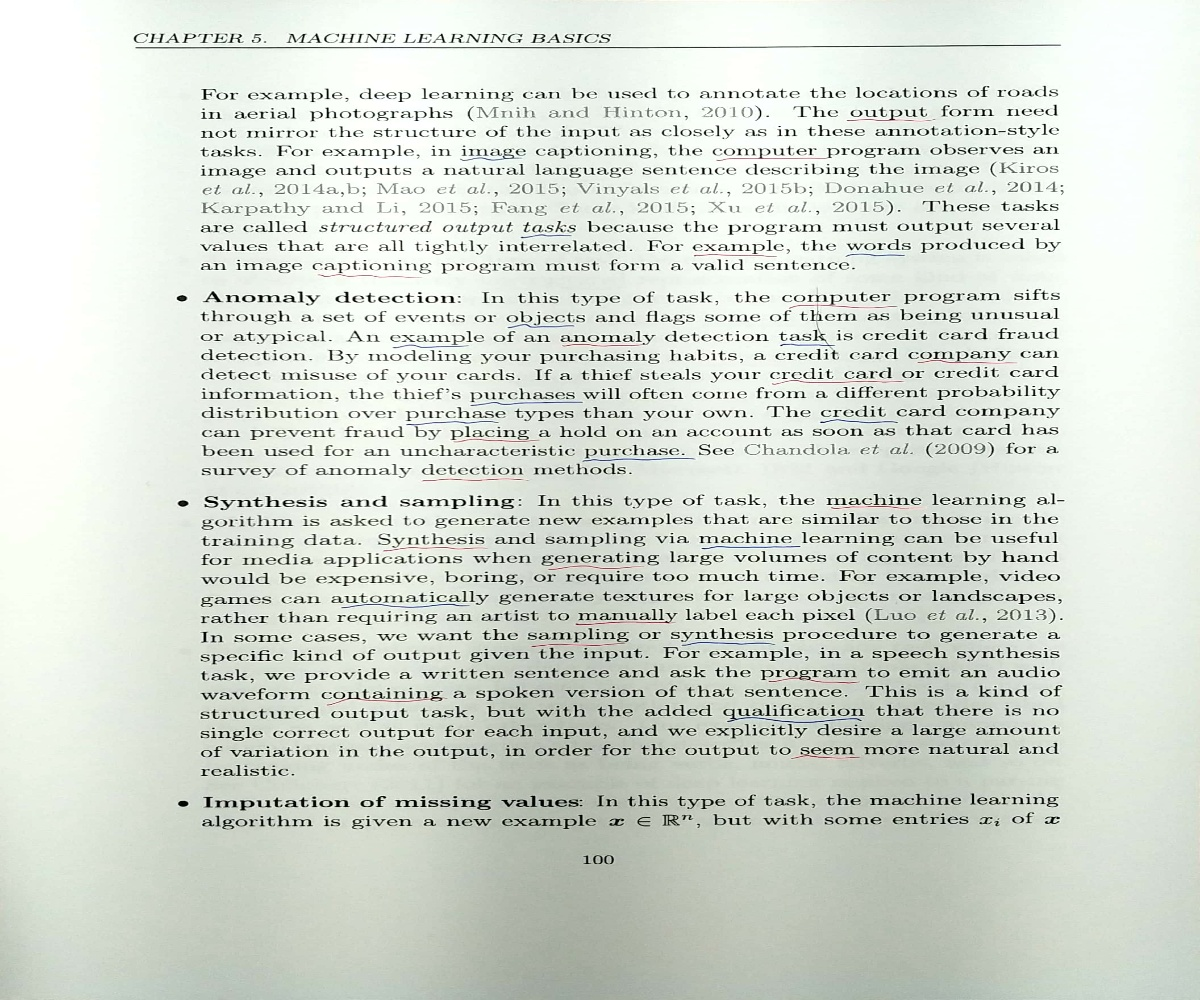underline: (727, 715, 866, 725), (327, 695, 451, 706), (768, 378, 917, 387), (313, 271, 427, 282), (337, 601, 472, 610), (419, 474, 529, 484), (380, 543, 490, 553), (698, 542, 804, 552), (529, 638, 628, 648), (680, 639, 774, 649), (580, 455, 697, 463), (826, 502, 930, 511), (786, 302, 901, 310), (468, 399, 583, 407), (916, 358, 1018, 366), (717, 155, 832, 162), (403, 417, 501, 425), (391, 341, 469, 351), (692, 251, 778, 260), (573, 620, 683, 627), (768, 677, 864, 685), (846, 116, 940, 124), (819, 417, 900, 426), (842, 250, 908, 261), (450, 436, 539, 444), (459, 153, 529, 163), (790, 753, 861, 762), (541, 564, 647, 570), (509, 322, 577, 331), (775, 341, 837, 350), (516, 233, 572, 240)
